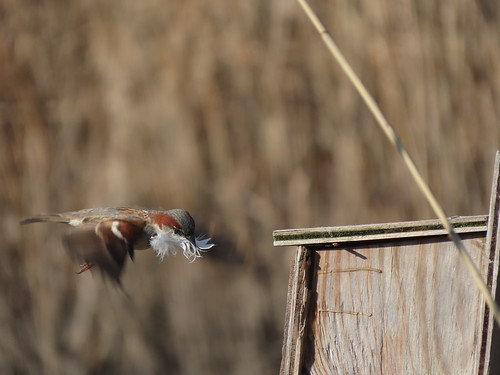animal: (27, 177, 237, 295)
